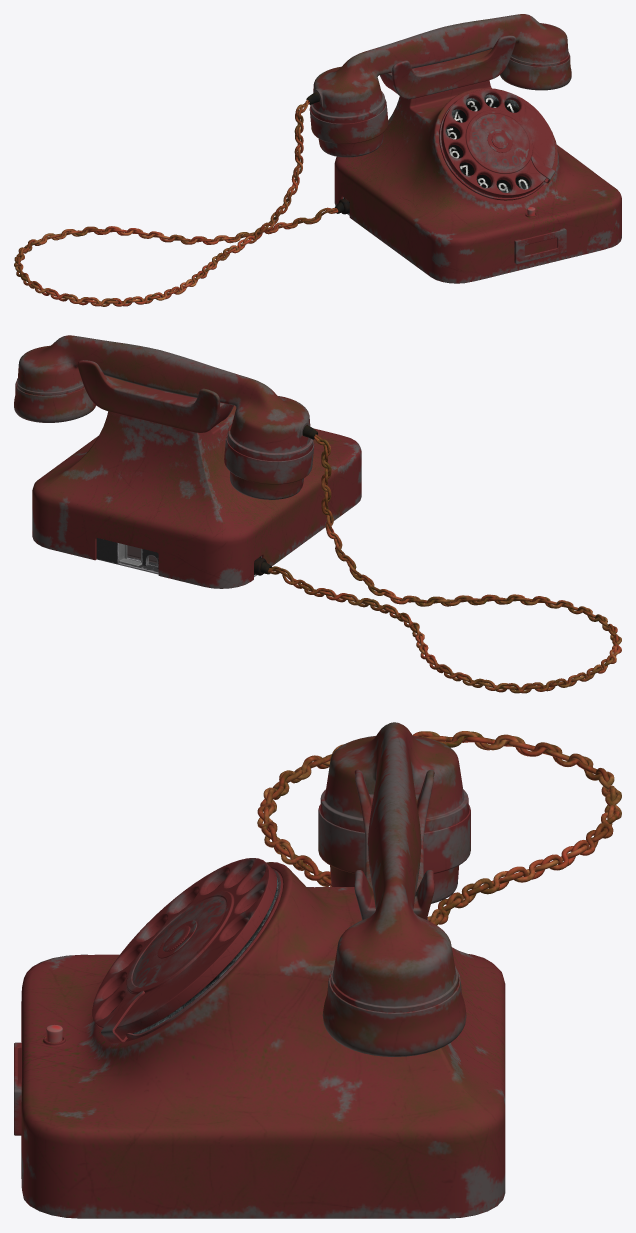
The model's file is JoinedMeshes.fbx.
3 renders of one model, top to bottom at view 1: azimuth 30°, elevation 25°; view 2: azimuth 150°, elevation 25°; view 3: azimuth 270°, elevation 25°, orthographic. The views are drawn at different scales.
Visible parts, largest first — view 1: Telephon_HighPoly; view 2: Telephon_HighPoly; view 3: Telephon_HighPoly.
Part boxes in pixels (x1,y1,x2,y2): Telephon_HighPoly: [14, 14, 621, 306]; Telephon_HighPoly: [14, 335, 621, 693]; Telephon_HighPoly: [14, 722, 621, 1218].
Bounding box in the file's own units: 27.16 × 8.49 × 13.75.
Materials: 4 (4 with a texture image).
